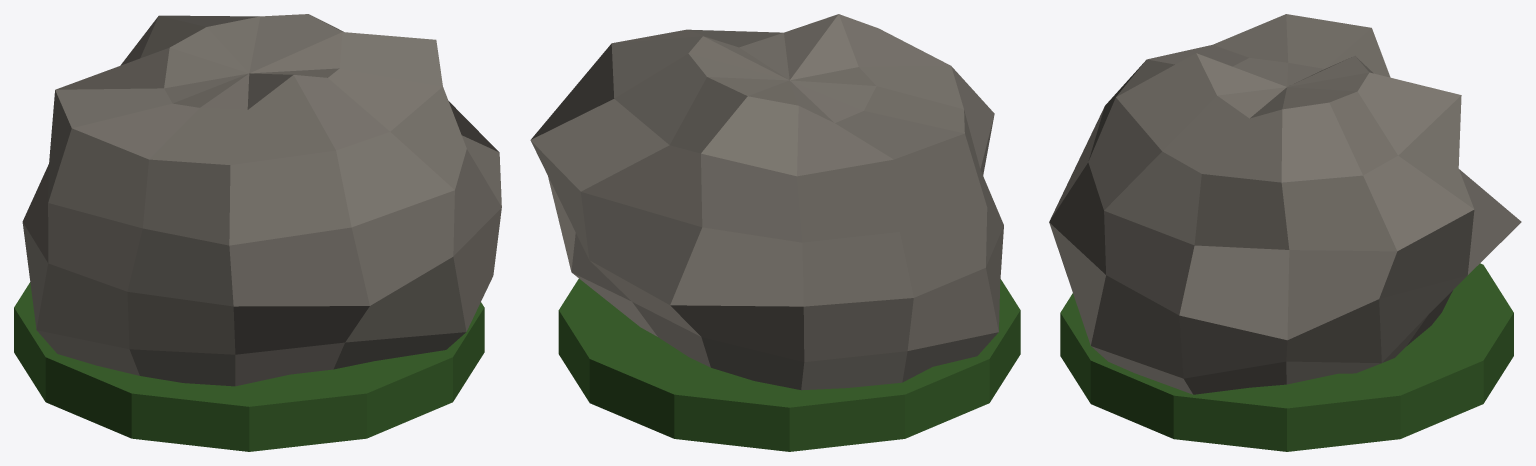
The model's file is prop_boulder.glb.
3 renders of one model, left to right at view 1: azimuth 30°, elevation 25°; view 2: azimuth 150°, elevation 25°; view 3: azimuth 270°, elevation 25°, orthographic. The views are drawn at different scales.
Parts seen in each view (by area): view 1: rock, moss_skirt; view 2: rock, moss_skirt; view 3: rock, moss_skirt.
Part boxes in pixels (x1,y1,x2,y2): rock: (22, 14, 501, 386); moss_skirt: (14, 282, 484, 451); rock: (530, 14, 1003, 390); moss_skirt: (558, 279, 1020, 451); rock: (1049, 14, 1521, 394); moss_skirt: (1060, 263, 1513, 451).
Bounding box in the file's own units: 1.93 × 1.38 × 1.77.
